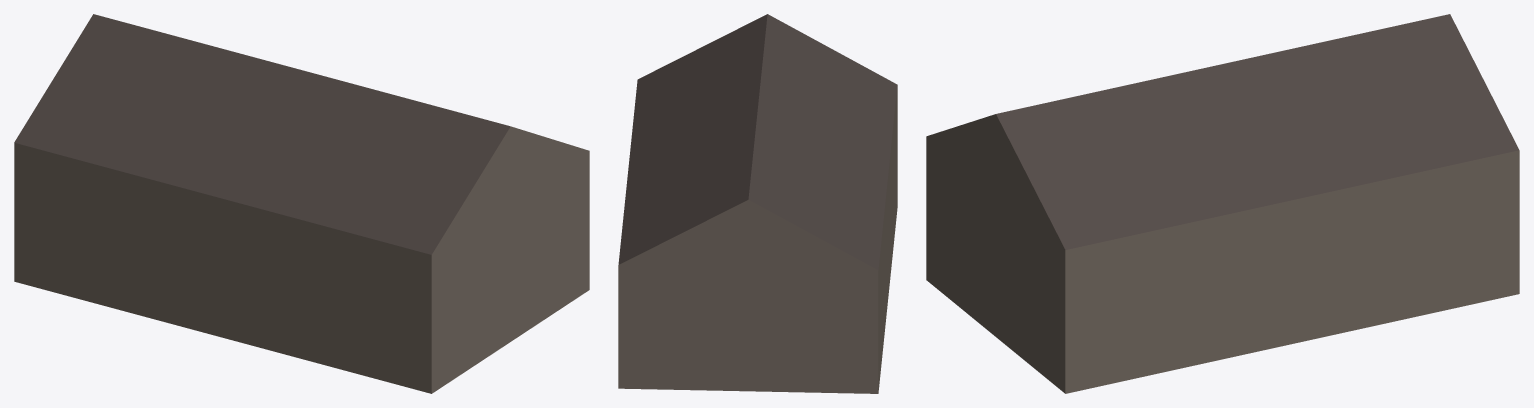
3 views of the same model, side by side, from view 1: azimuth 30°, elevation 25°; view 2: azimuth 150°, elevation 25°; view 3: azimuth 270°, elevation 25° (orthographic). The views are drawn at different scales.
Parts seen in each view (by area): view 1: HP-w859457431; view 2: HP-w859457431; view 3: HP-w859457431.
Boxes of the visible parts, x1,y1,x2,y2 form: HP-w859457431: (14, 14, 589, 393); HP-w859457431: (618, 14, 897, 393); HP-w859457431: (926, 14, 1519, 393).
Bounding box in the file's own units: 19.12 × 9.31 × 22.42.
